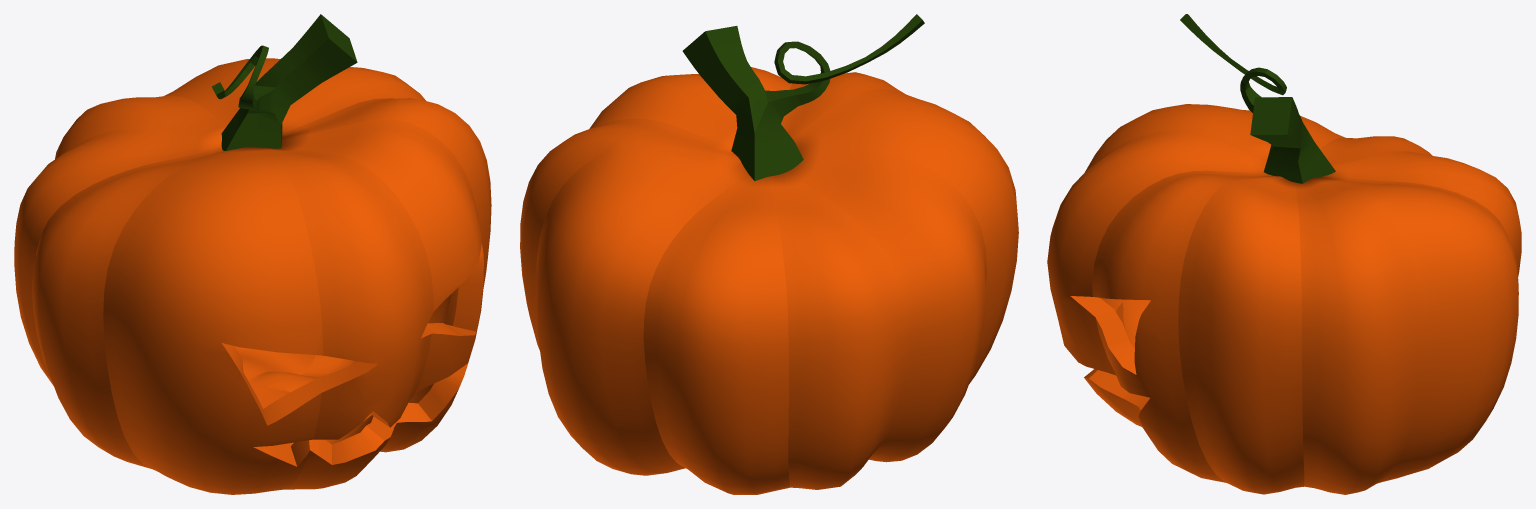
Rendered from MESH_Pumpkin.fbx.
3 views of the same model, side by side, from view 1: azimuth 30°, elevation 25°; view 2: azimuth 150°, elevation 25°; view 3: azimuth 270°, elevation 25° (orthographic). The views are drawn at different scales.
Visible parts, largest first — view 1: Circle.002, Cube.002; view 2: Circle.002, Cube.002; view 3: Circle.002, Cube.002.
Boxes of the visible parts, <box> form: Circle.002: <box>14,58,491,494</box>; Cube.002: <box>211,14,357,150</box>; Circle.002: <box>520,67,1018,494</box>; Cube.002: <box>682,14,924,180</box>; Circle.002: <box>1047,104,1521,494</box>; Cube.002: <box>1180,14,1335,183</box>.
Size of the model in its own units: 164 by 156 by 172.
